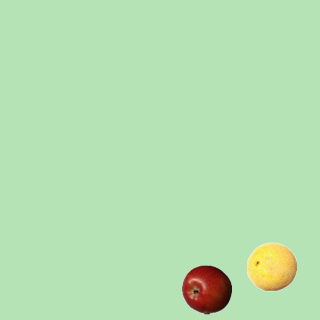Apple Braeburn: (181, 264, 231, 314)
Cantaloupe 1: (246, 241, 296, 291)
